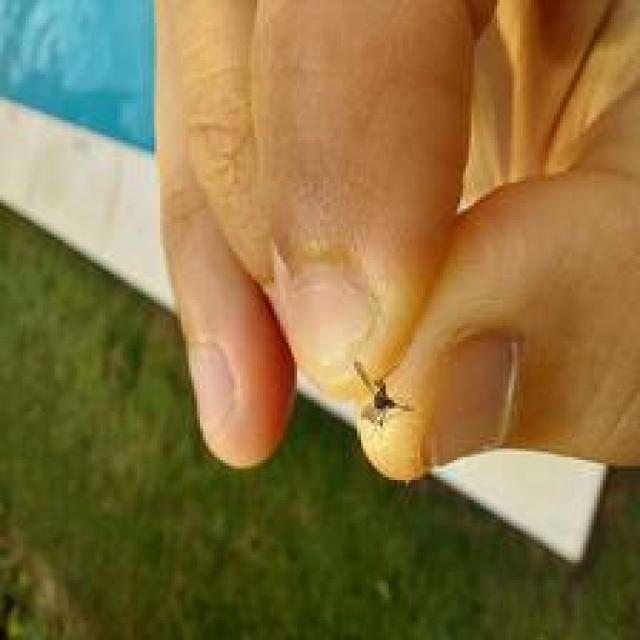Aedes albopictus: (352, 357, 414, 429)
